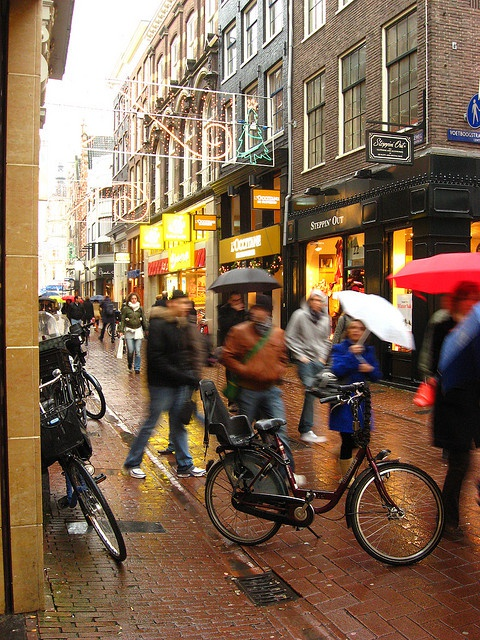non-vehicle: (200, 372, 446, 566), (34, 376, 123, 558), (65, 353, 106, 424)
